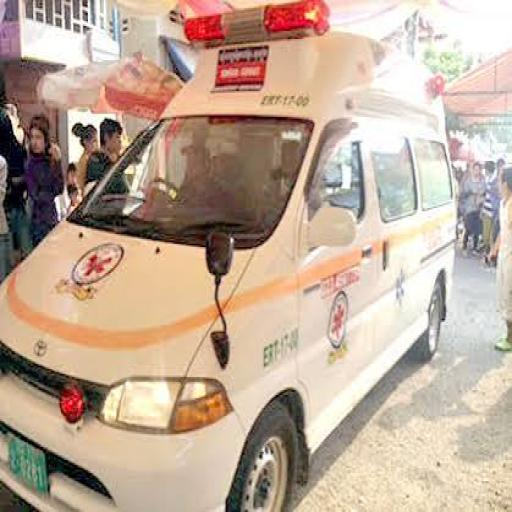Plate Number: (5, 434, 47, 496)
